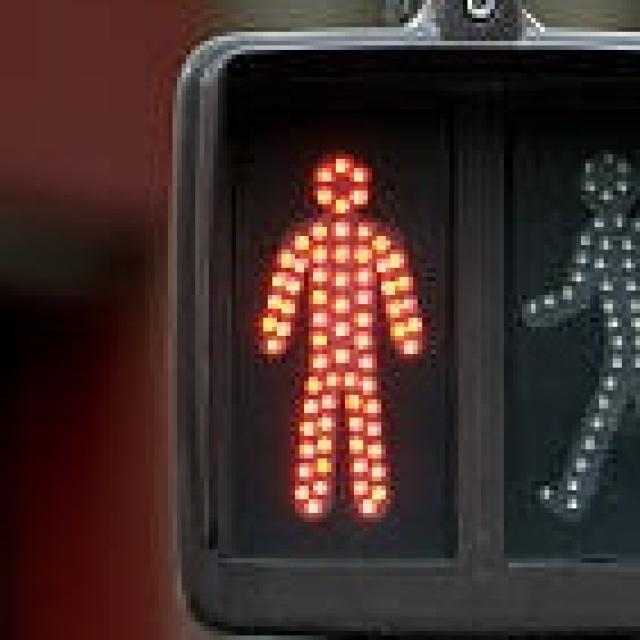red-crossing: (227, 90, 445, 544)
